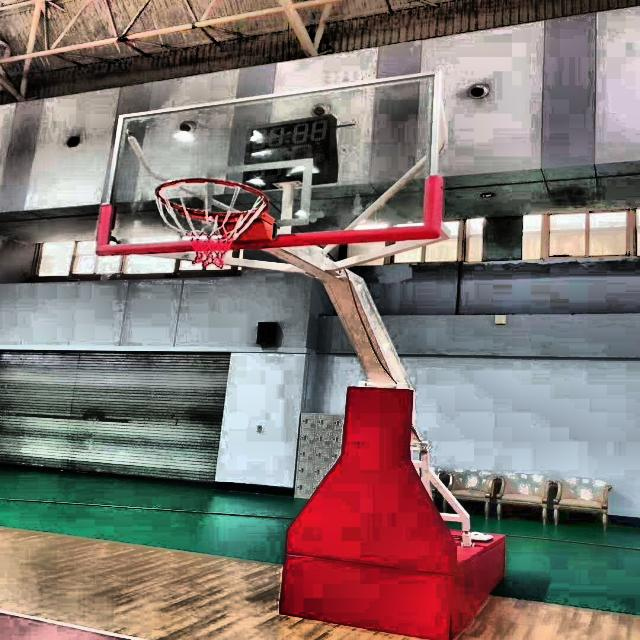rim: (156, 179, 270, 267)
